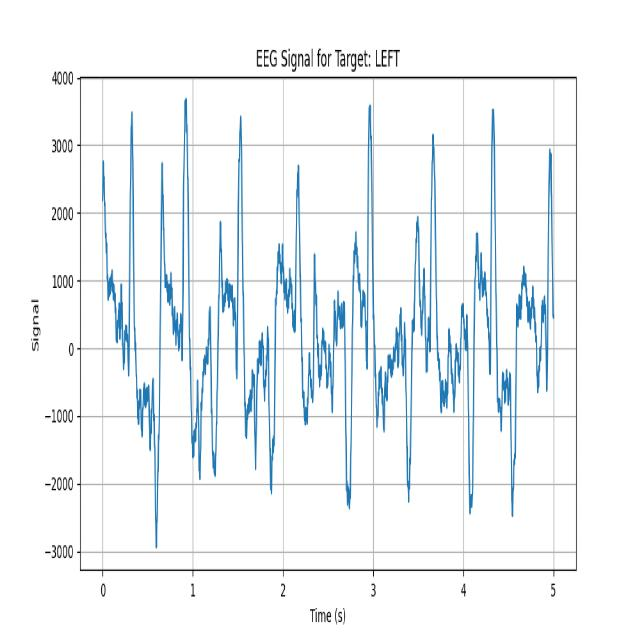LEFT: (160, 87, 212, 499), (467, 108, 511, 521), (217, 88, 262, 477), (408, 116, 454, 473), (349, 99, 391, 466), (274, 108, 316, 461)
